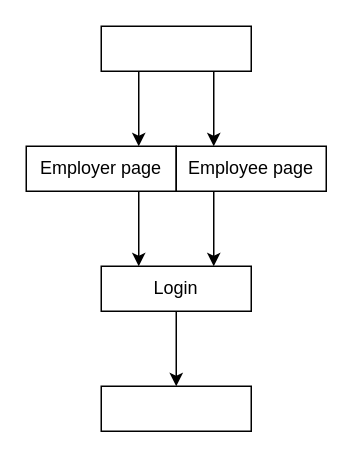
This 353x458 diagram has some shape labels left out. Each missing label, with the centre of its shape:
"Dashboard" belongs at (175,408).
"Landing page" belongs at (175,48).
